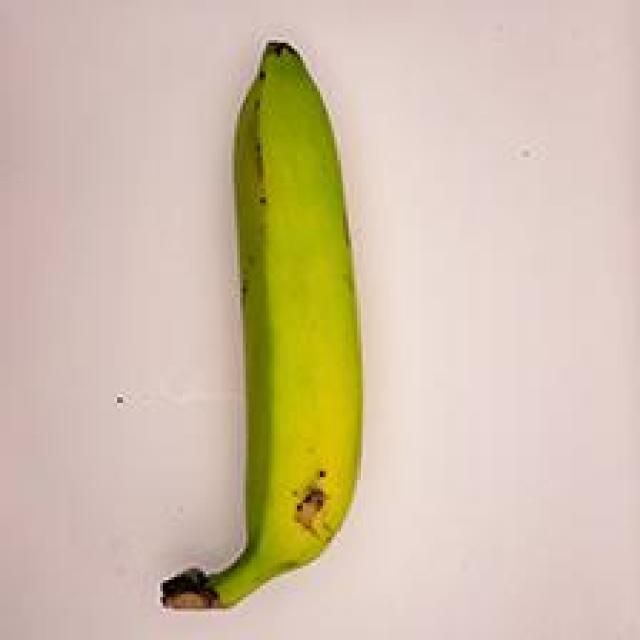Unripe: (139, 19, 404, 620)
